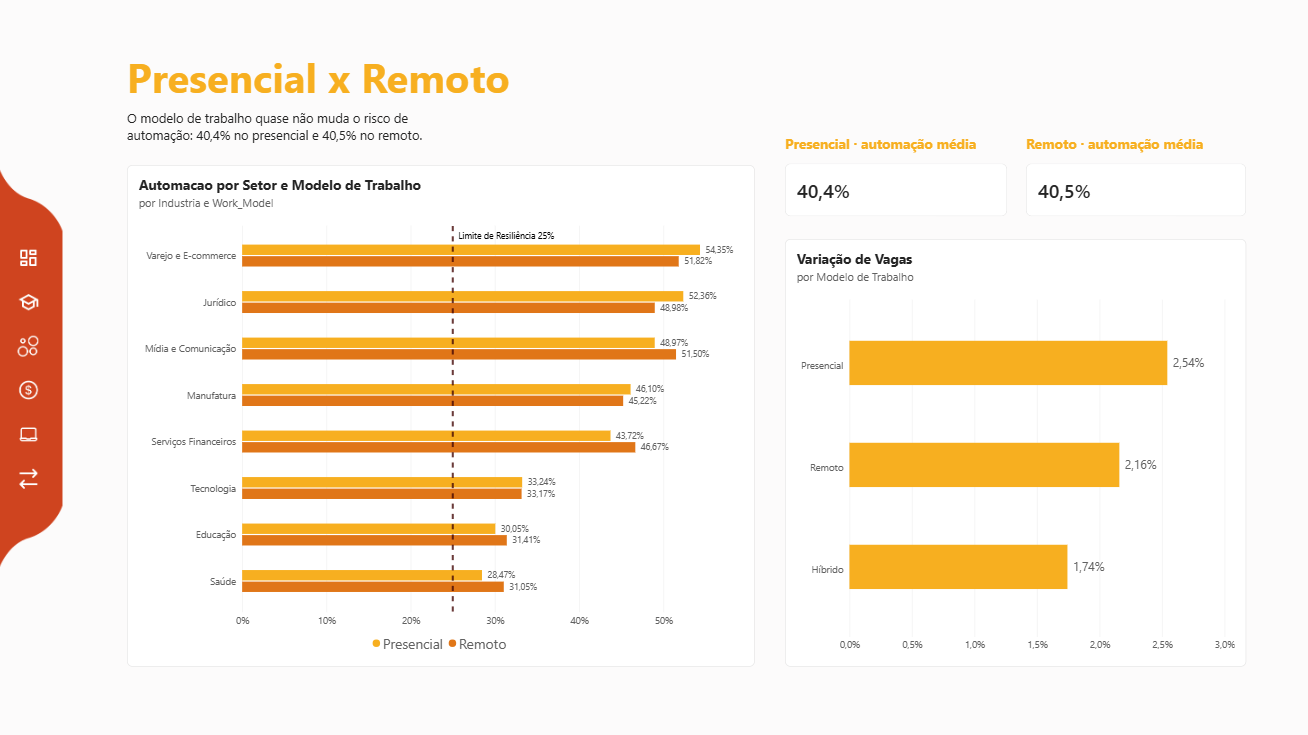

Layout of this report page (visuals, bound fields, positions):
{"tool":"powerbi","page":{"name":"Presencial x Remoto","canvas":[1920,1080],"ordinal":4},"visuals":[{"type":"cardVisual","title":"Presencial · automação média","fields":{"Data":["Medidas Gerais.Automacao_Presencial"]},"box":[1150.7,198.7,324,120],"z":0},{"type":"cardVisual","title":"Remoto · automação média","fields":{"Data":["Medidas Gerais.Automacao_Remoto"]},"box":[1502.7,198.7,321.3,120],"z":1000},{"type":"clusteredBarChart","fields":{"Category":["dim_setor.Industry"],"Series":["fato_ai_job_impact.Work_Model"],"Y":["Medidas Gerais.Automacao_Ponderada"]},"box":[190.7,244,916,732],"z":5000},{"type":"clusteredBarChart","fields":{"Category":["fato_ai_job_impact.Work_Model"],"Y":["Medidas Gerais.Variacao_Vagas_%"]},"box":[1150.7,352,673.3,624],"z":6000},{"type":"group","id":"g1","title":"Grupo 1","box":[0,132.9,97.1,814.3],"z":8000},{"type":"textbox","box":[190.7,76,617.3,86.7],"z":9000},{"type":"image","box":[0,132.9,97.1,814.3],"z":9000,"group":"g1"},{"type":"textbox","box":[190.7,162.7,448,52],"z":10000},{"type":"actionButton","box":[17.1,417.2,61.4,52.9],"z":10000,"group":"g1"},{"type":"actionButton","box":[17.1,482.9,61.4,52.9],"z":11000,"group":"g1"},{"type":"actionButton","box":[17.1,547.2,61.4,52.9],"z":12000,"group":"g1"},{"type":"actionButton","box":[17.1,611.5,61.4,52.9],"z":13000,"group":"g1"},{"type":"actionButton","box":[17.1,674.3,61.4,52.9],"z":14000,"group":"g1"},{"type":"actionButton","box":[17.1,351.5,61.4,52.9],"z":15000,"group":"g1"}]}

Visuals, with their boxes on the page's 1920x1080 design canvas (x1, y1, x2, y2). These are canvas units, not pixel positions in the 1308x735 screenshot, which may show the page scaled, cropped or inside an application window:
"Presencial · automação média" cardVisual: select_region(1151, 199, 1475, 319)
"Remoto · automação média" cardVisual: select_region(1503, 199, 1824, 319)
clusteredBarChart - dim_setor.Industry x fato_ai_job_impact.Work_Model: select_region(191, 244, 1107, 976)
clusteredBarChart - fato_ai_job_impact.Work_Model x Medidas Gerais.Variacao_Vagas_%: select_region(1151, 352, 1824, 976)
"Grupo 1" group: select_region(0, 133, 97, 947)
textbox: select_region(191, 76, 808, 163)
image: select_region(0, 133, 97, 947)
textbox: select_region(191, 163, 639, 215)
actionButton: select_region(17, 417, 78, 470)
actionButton: select_region(17, 483, 78, 536)
actionButton: select_region(17, 547, 78, 600)
actionButton: select_region(17, 612, 78, 664)
actionButton: select_region(17, 674, 78, 727)
actionButton: select_region(17, 352, 78, 404)
